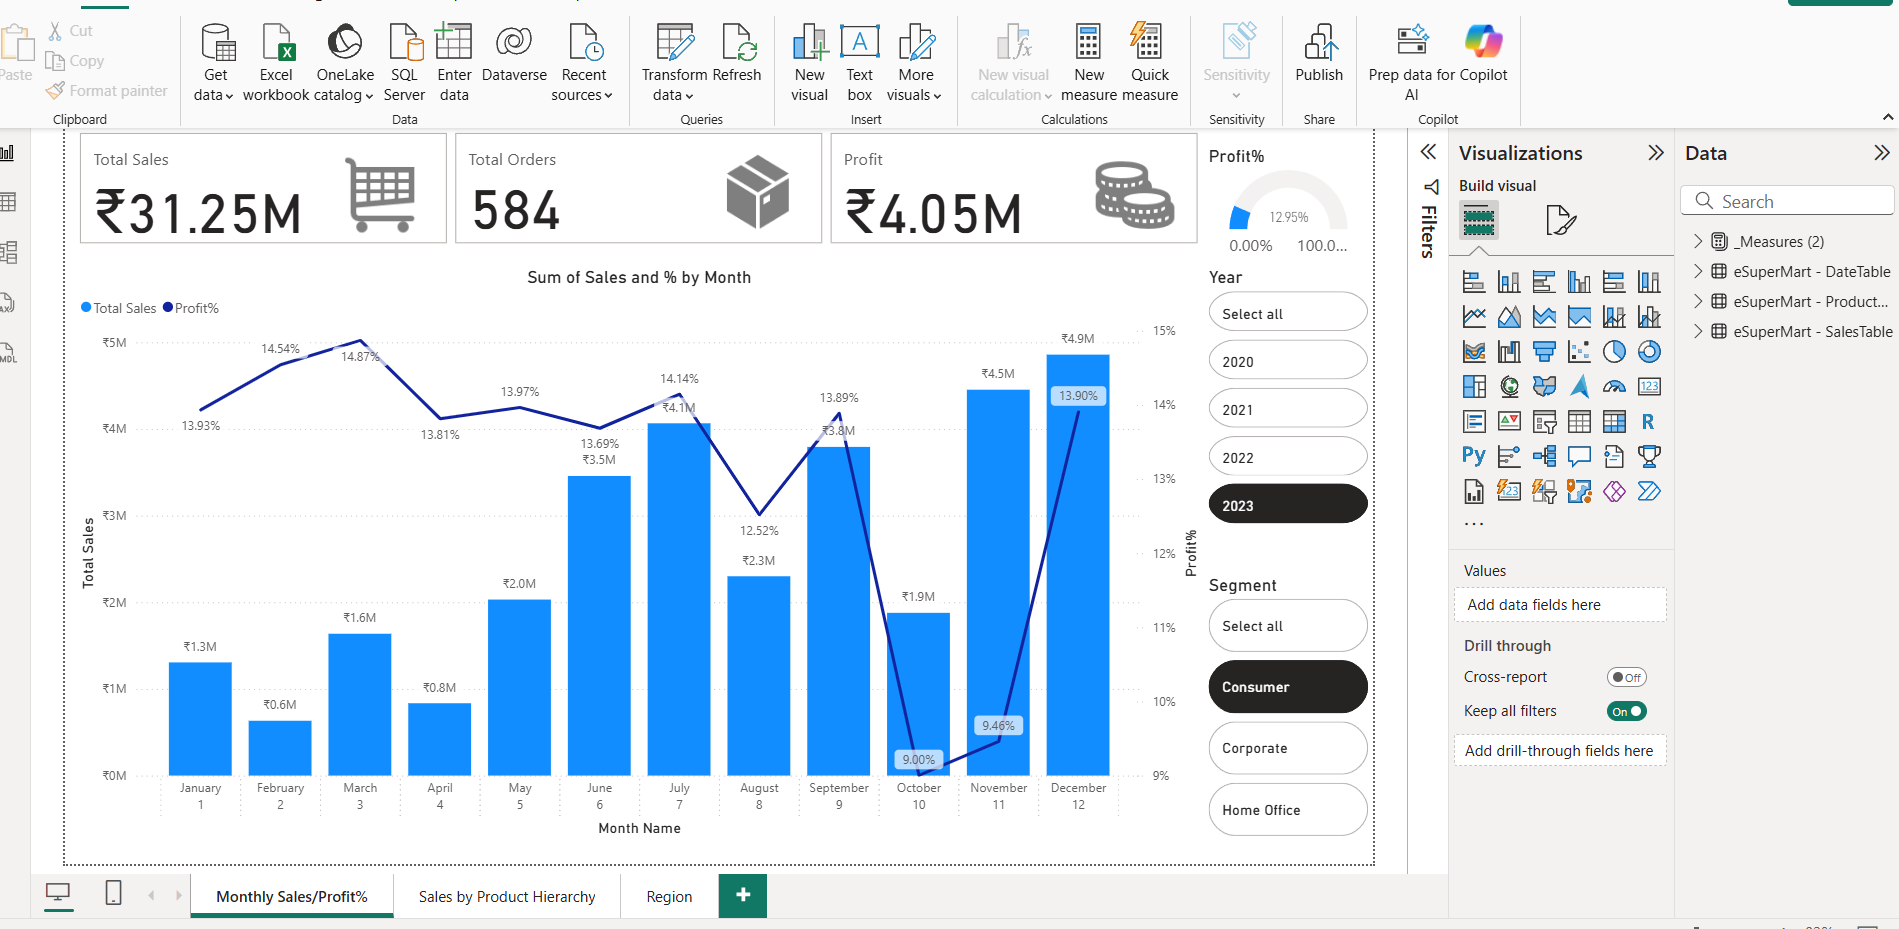

The dashboard page shown, as its layout file describes it:
{"tool":"powerbi","page":{"name":"Monthly Sales/Profit%","canvas":[1280,720],"ordinal":0},"visuals":[{"type":"cardVisual","fields":{"Data":["_Measures (2).Total Sales","_Measures (2).Total Orders","_Measures (2).Profit"]},"box":[9.8,0,1104.2,118.6],"z":0},{"type":"gauge","fields":{"Y":["_Measures (2).Profit%"]},"box":[1114,17.1,166.3,118.6],"z":1000},{"type":"lineStackedColumnComboChart","title":"Sum of Sales and % by Month","fields":{"Category":["eSuperMart - DateTable.Month","eSuperMart - DateTable.Month Name"],"Y":["_Measures (2).Total Sales"],"Y2":["_Measures (2).Profit%"]},"box":[9.8,135.7,1104.2,562.5],"z":2000},{"type":"advancedSlicerVisual","fields":{"Values":["eSuperMart - DateTable.Year"]},"box":[1114,135.7,166.3,259.2],"z":3000},{"type":"advancedSlicerVisual","fields":{"Values":["eSuperMart - SalesTable.Segment"]},"box":[1114,436.6,166.3,261.7],"z":4000}]}

Visuals, with their boxes on the page's 1280x720 design canvas (x1, y1, x2, y2). These are canvas units, not pixel positions in the 1899x929 screenshot, which may show the page scaled, cropped or inside an application window:
cardVisual - _Measures (2).Total Sales x _Measures (2).Total Orders: (x1=10, y1=0, x2=1114, y2=119)
gauge - _Measures (2).Profit%: (x1=1114, y1=17, x2=1280, y2=136)
"Sum of Sales and % by Month" lineStackedColumnComboChart: (x1=10, y1=136, x2=1114, y2=698)
advancedSlicerVisual - eSuperMart - DateTable.Year: (x1=1114, y1=136, x2=1280, y2=395)
advancedSlicerVisual - eSuperMart - SalesTable.Segment: (x1=1114, y1=437, x2=1280, y2=698)
